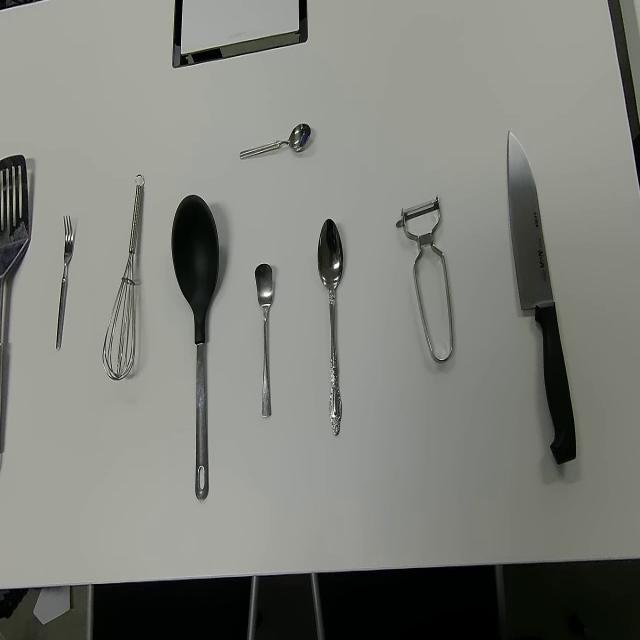Desert-Spoon: (316, 217, 344, 438)
Dinner-Fork: (55, 214, 75, 354)
Kitchen-Knife: (506, 128, 578, 464)
Peeler: (394, 196, 454, 364)
Serving-Spoon: (171, 192, 220, 502), (0, 154, 32, 478)
Tea-Spoon: (238, 119, 312, 162), (254, 262, 274, 418)
Whisk: (102, 172, 144, 384)
